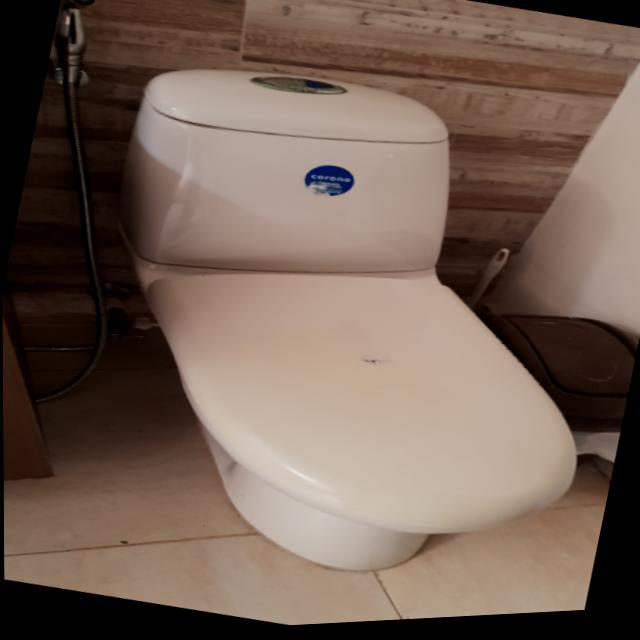toilet: (45, 30, 640, 629)
